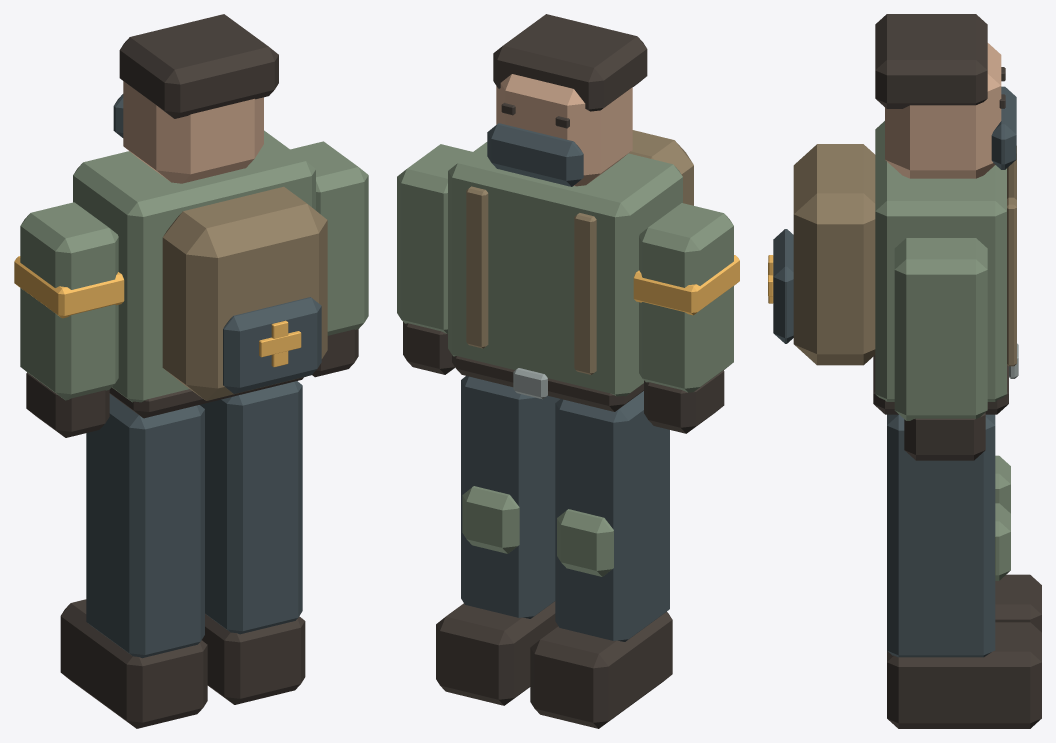
Rendered from survivor.glb.
3 views of the same model, side by side, from view 1: azimuth 30°, elevation 25°; view 2: azimuth 150°, elevation 25°; view 3: azimuth 270°, elevation 25° (orthographic). The views are drawn at different scales.
Parts seen in each view (by area): view 1: TrousersLeft, TrousersRight, Backpack, Jacket, SleeveLeft, Hair, BootLeft, Head, SleeveRight, BootRight, PackPocket, GloveLeft (+4 smaller); view 2: Jacket, TrousersLeft, TrousersRight, SleeveLeft, BootLeft, Hair, SleeveRight, BootRight, Head, Mask, PackStrap.001, PackStrap (+8 smaller); view 3: TrousersRight, Backpack, SleeveRight, Jacket, BootRight, Hair, Head, GloveRight, PackPocket, BootLeft, PackStrap.001, Mask (+3 smaller).
Boxes of the visible parts, x1,y1,x2,y2 form: TrousersLeft: [86, 394, 204, 658]; TrousersRight: [200, 381, 302, 634]; Backpack: [162, 186, 327, 400]; Jacket: [73, 130, 315, 402]; SleeveLeft: [20, 202, 118, 400]; Hair: [119, 14, 278, 118]; BootLeft: [60, 599, 207, 728]; Head: [123, 81, 263, 183]; SleeveRight: [290, 141, 368, 335]; BootRight: [202, 614, 305, 704]; PackPocket: [223, 297, 321, 393]; GloveLeft: [26, 372, 109, 437]; Jacket: [448, 142, 682, 396]; TrousersLeft: [555, 391, 669, 641]; TrousersRight: [461, 376, 559, 618]; SleeveLeft: [639, 203, 733, 392]; BootLeft: [530, 612, 672, 728]; Hair: [493, 14, 647, 111]; SleeveRight: [397, 144, 472, 333]; BootRight: [436, 601, 558, 705]; Head: [496, 74, 632, 186]; Mask: [487, 123, 583, 186]; PackStrap.001: [466, 186, 488, 348]; PackStrap: [574, 213, 596, 374]; TrousersRight: [887, 414, 995, 657]; Backpack: [793, 144, 875, 365]; SleeveRight: [894, 238, 987, 420]; Jacket: [875, 121, 1006, 401]; BootRight: [887, 622, 1041, 728]; Hair: [875, 14, 987, 108]; Head: [885, 43, 1001, 178]; GloveRight: [904, 412, 985, 460]; PackPocket: [773, 229, 793, 343]; BootLeft: [995, 574, 1041, 632]; PackStrap.001: [1007, 197, 1016, 366]; Mask: [991, 86, 1016, 169].
Bounding box in the file's own units: 0.935 × 1.86 × 0.7065.
